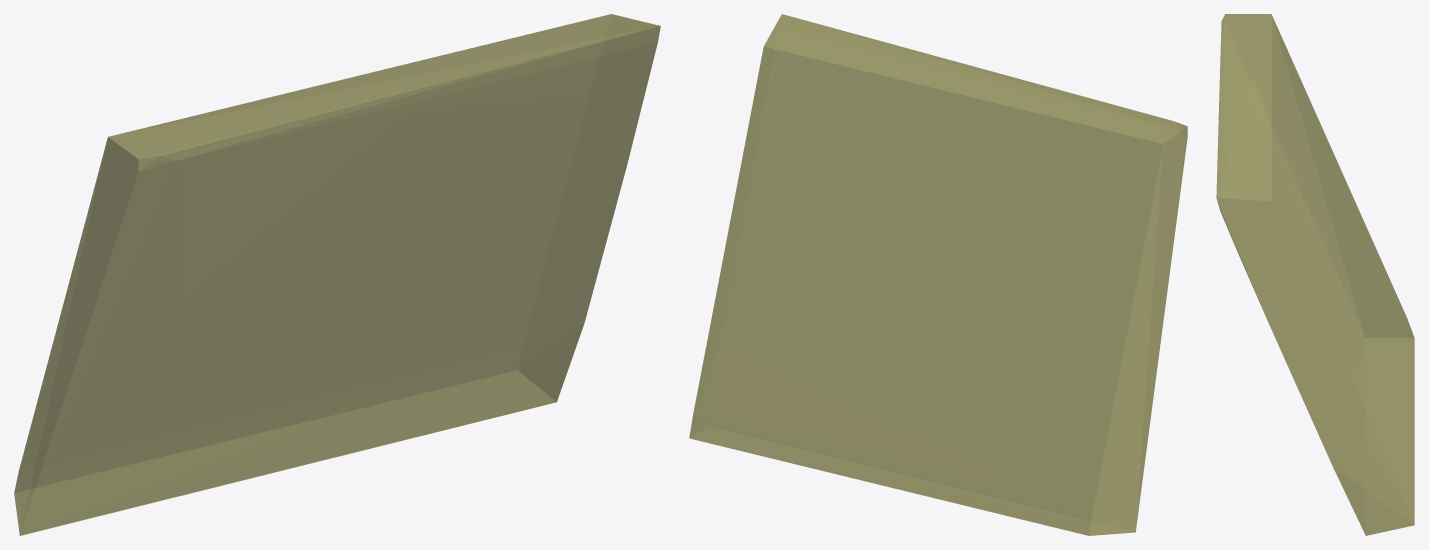
3 renders of one model, left to right at view 1: azimuth 30°, elevation 25°; view 2: azimuth 150°, elevation 25°; view 3: azimuth 270°, elevation 25°, orthographic. The views are drawn at different scales.
Parts seen in each view (by area): view 1: Shape_IndexedFaceSet.006_Shape_IndexedFaceSet.411; view 2: Shape_IndexedFaceSet.006_Shape_IndexedFaceSet.411; view 3: Shape_IndexedFaceSet.006_Shape_IndexedFaceSet.411.
Boxes of the visible parts, box(x1,y1,x2,y2) form: Shape_IndexedFaceSet.006_Shape_IndexedFaceSet.411: box(14, 14, 660, 535); Shape_IndexedFaceSet.006_Shape_IndexedFaceSet.411: box(689, 14, 1187, 535); Shape_IndexedFaceSet.006_Shape_IndexedFaceSet.411: box(1216, 14, 1414, 535).
Bounding box in the file's own units: 0.4862 × 0.3835 × 0.2012.
